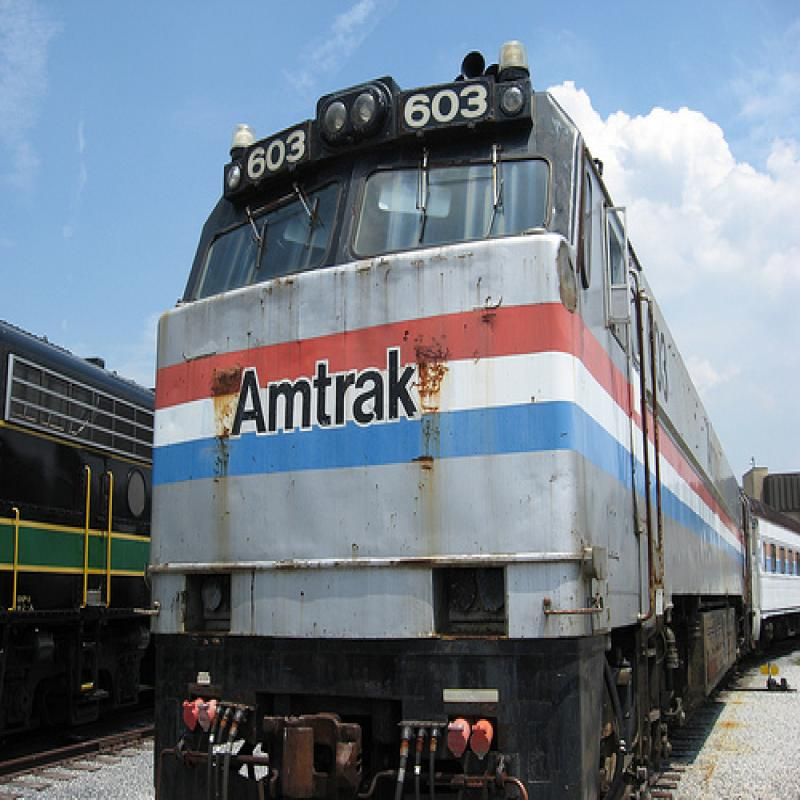train: (154, 67, 800, 800), (3, 317, 156, 714)
